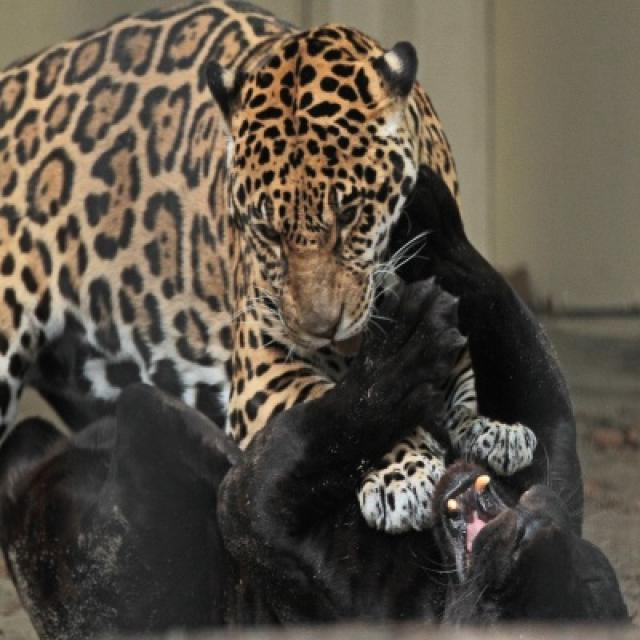Jaguar: (0, 0, 461, 446)
